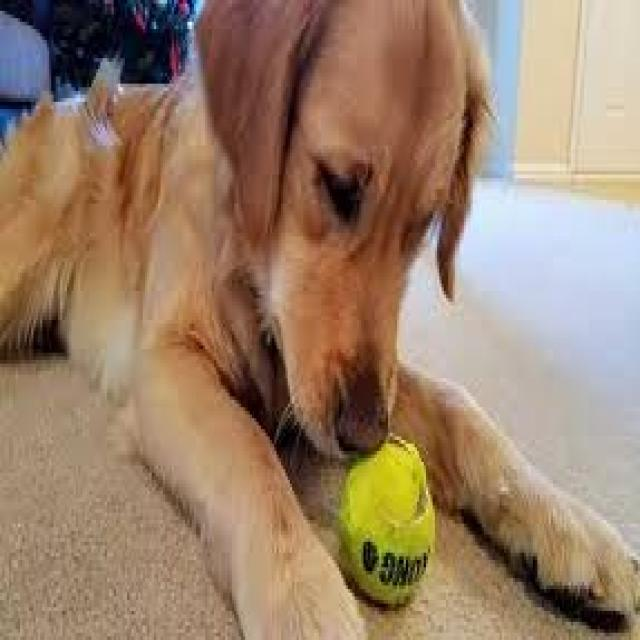tennis-ball: (343, 444, 437, 604)
